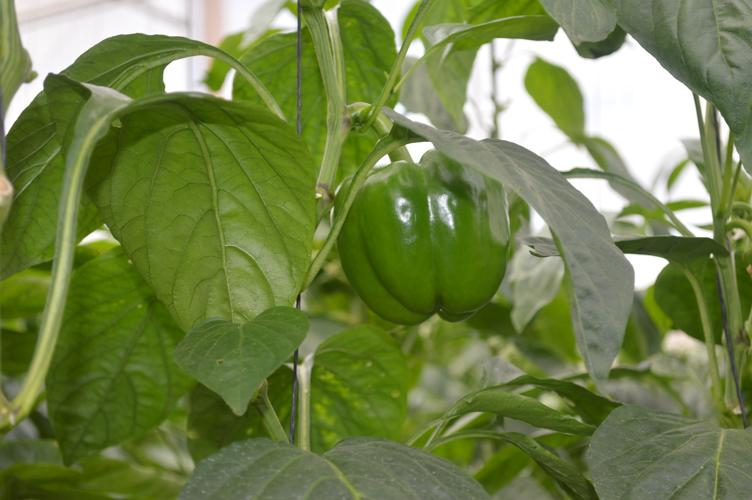BellPepper: (348, 152, 522, 324)
